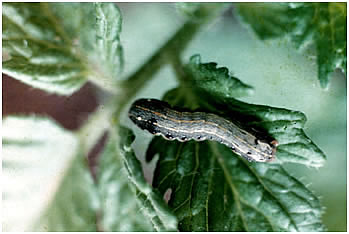Armyworm: (127, 90, 282, 171)
